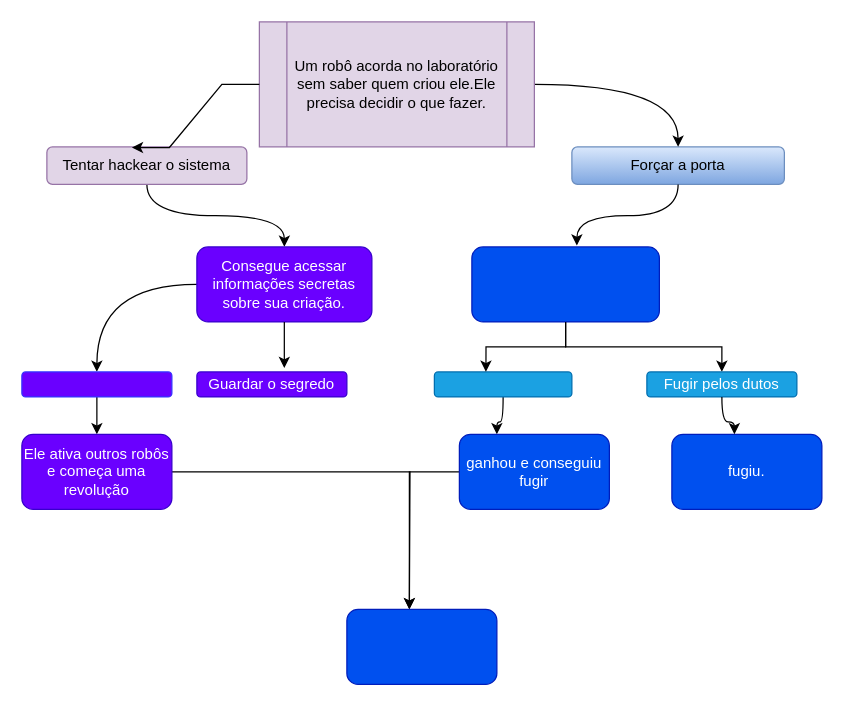
This 844x706 diagram has some shape labels left out. The centre of each missing label's shape, as x and y in pixels:
"Ativar o alarme guardas aparecem." belongs at (x=565, y=284).
"descobriu que quem o criou esta morto... FIM!!" belongs at (x=421, y=646).
"Lutar contra eles" belongs at (x=502, y=384).
"Revelar a verdade" belongs at (x=96, y=384).
